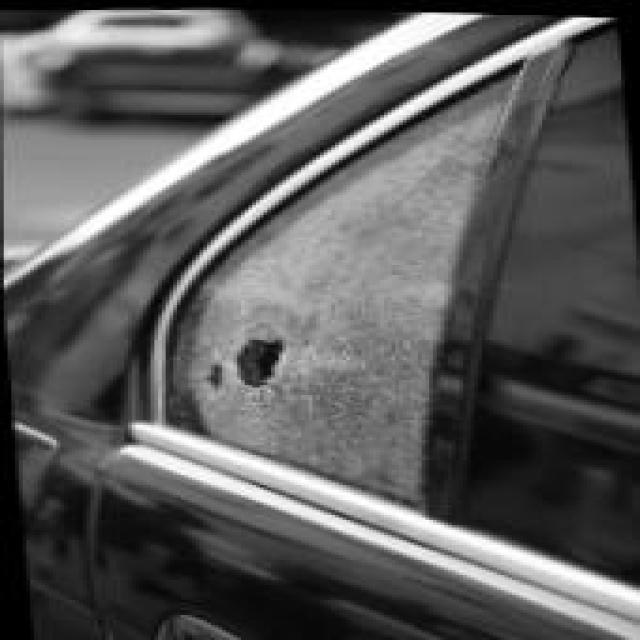Door: (139, 105, 539, 639)
